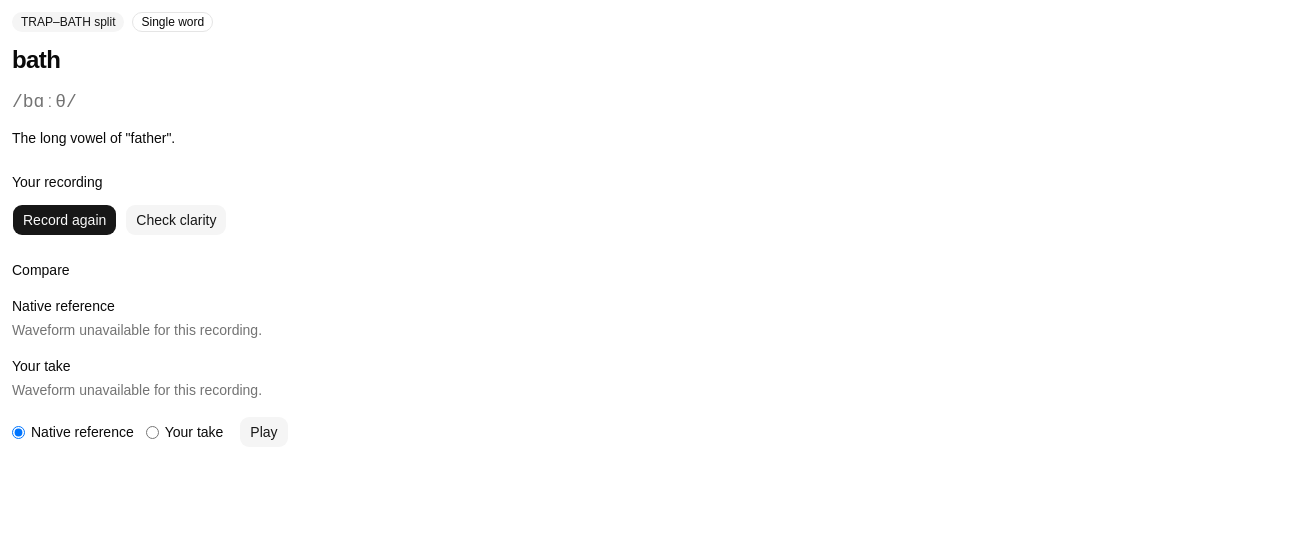
Scenario: PracticePanel › explains a network failure rather than showing a generic error
Click the button "Check clarity". click: (176, 220)
box: 125,204 -> 227,236
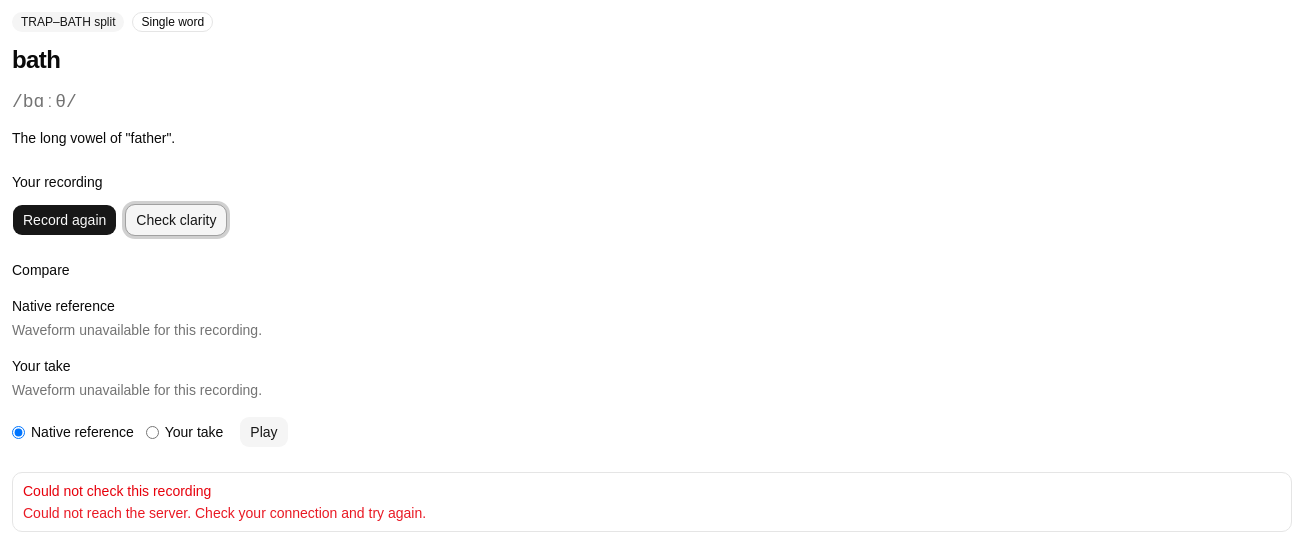
Expected: the text "Could not reach the server" is shown, 23,505 -> 426,521
